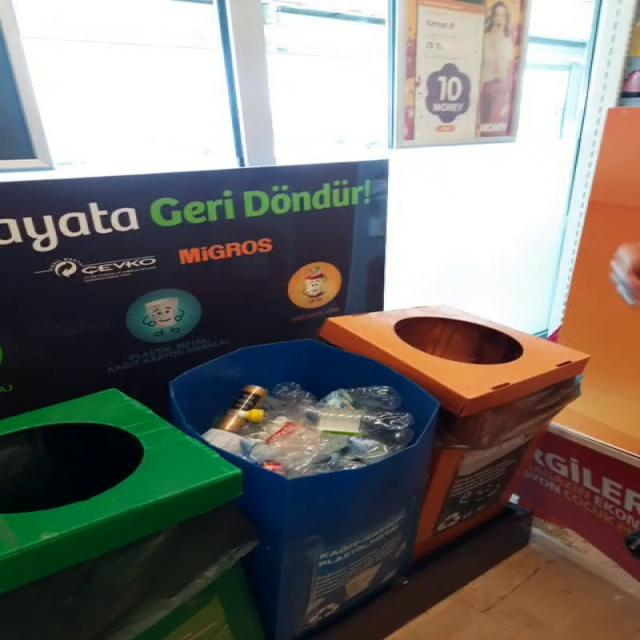bin: (169, 306, 589, 640)
metal: (215, 386, 268, 434)
